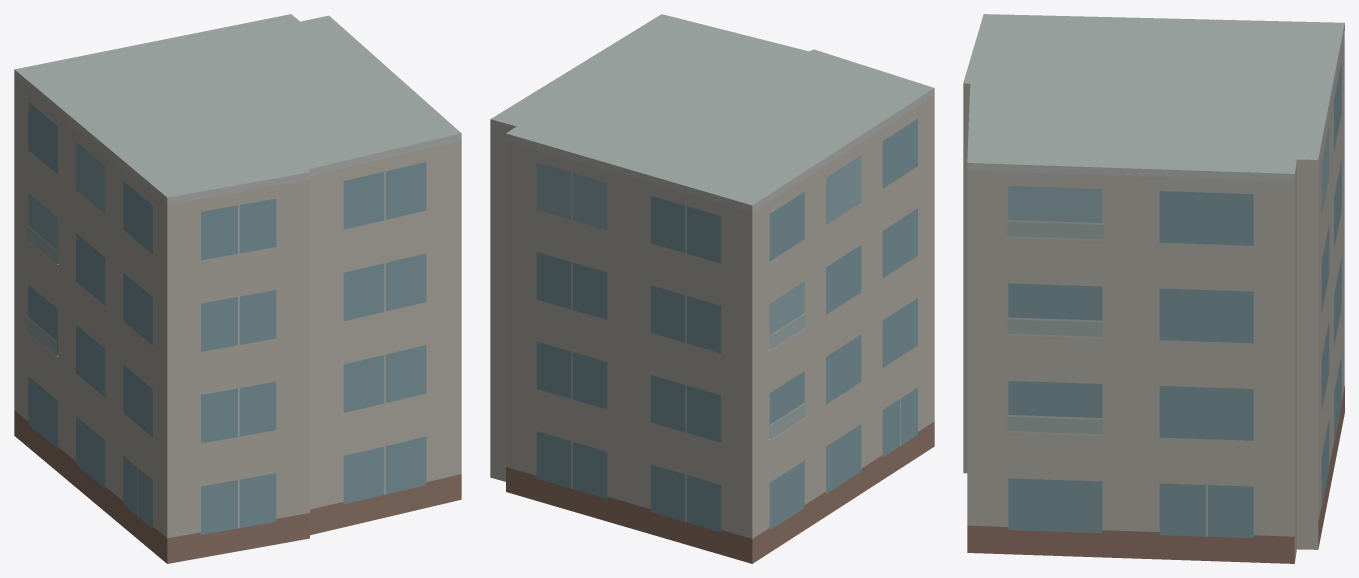
Rendered from survey-upis-32807045.glb.
The picture shows the model from 3 angles, left to right: view 1: azimuth 30°, elevation 25°; view 2: azimuth 150°, elevation 25°; view 3: azimuth 270°, elevation 25°; orthographic projection. The views are drawn at different scales.
Parts seen in each view (by area): view 1: survey-upis-32807045.tmp; view 2: survey-upis-32807045.tmp; view 3: survey-upis-32807045.tmp.
Part boxes in pixels (<box>): survey-upis-32807045.tmp: <box>14,14,461,563</box>; survey-upis-32807045.tmp: <box>490,14,934,563</box>; survey-upis-32807045.tmp: <box>963,14,1344,563</box>.
Size of the model in its own units: 10.74 by 12.2 by 10.83.
